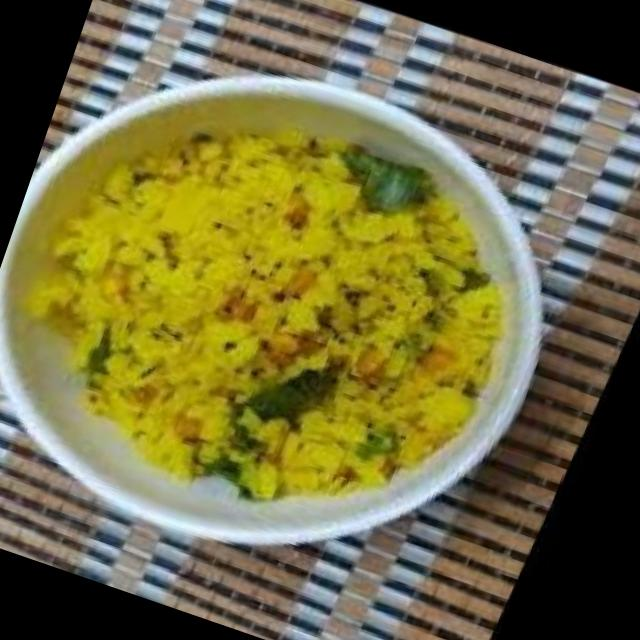poha: (0, 58, 566, 569)
